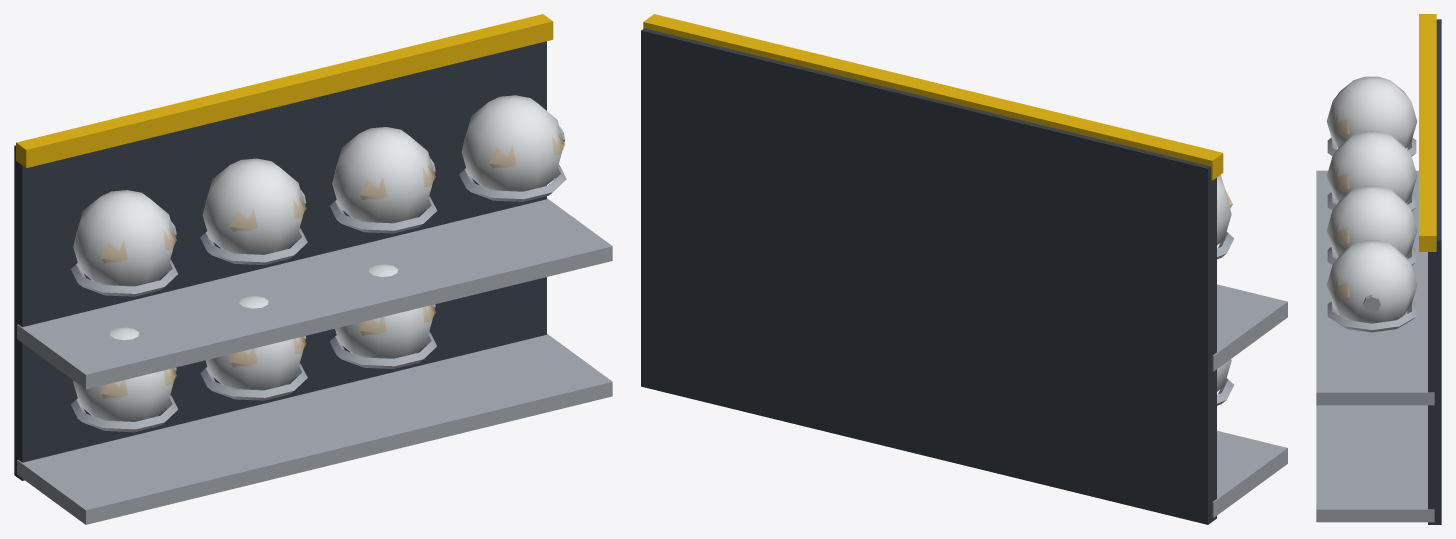
File: suitrack_eva_helmet_rack.glb
The picture shows the model from 3 angles, left to right: view 1: azimuth 30°, elevation 25°; view 2: azimuth 150°, elevation 25°; view 3: azimuth 270°, elevation 25°; orthographic projection. The views are drawn at different scales.
Parts seen in each view (by area): view 1: suitrack_eva_helmet_rack; view 2: suitrack_eva_helmet_rack; view 3: suitrack_eva_helmet_rack.
Boxes of the visible parts, box(x1,y1,x2,y2) form: suitrack_eva_helmet_rack: box(14, 14, 612, 524); suitrack_eva_helmet_rack: box(641, 14, 1287, 524); suitrack_eva_helmet_rack: box(1316, 14, 1441, 524).
Size of the model in its own units: 1.51 by 0.915 by 0.36.
